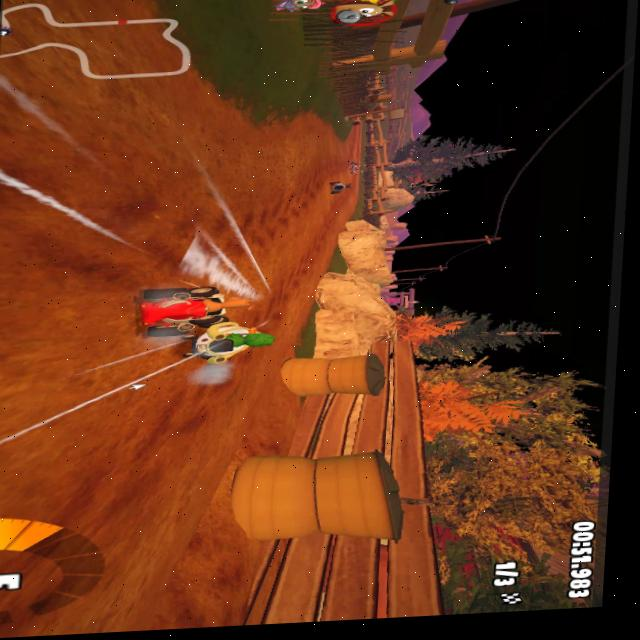enemy_kart: (186, 318, 272, 379), (318, 178, 351, 201)
player_kart: (126, 277, 247, 335)
track: (0, 286, 133, 639), (0, 180, 310, 293), (106, 337, 189, 633), (0, 0, 150, 139), (0, 140, 348, 195), (0, 123, 330, 159), (173, 460, 233, 629), (184, 374, 268, 461), (142, 97, 232, 132), (246, 277, 315, 321), (306, 230, 336, 277), (143, 78, 204, 101), (145, 44, 177, 82), (312, 203, 353, 231), (346, 124, 370, 161)
